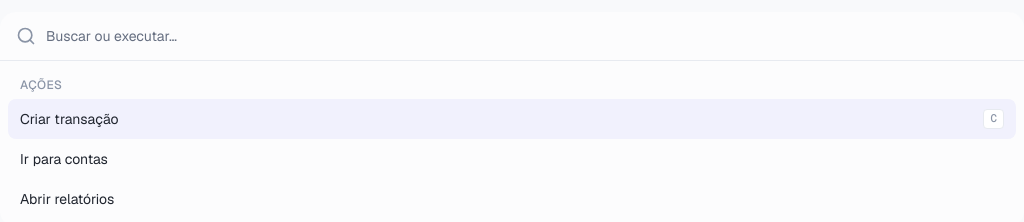
Test: CommandMenu › shows the empty state when nothing matches
The width and height of the screenshot is (1024, 222).
Type "zzzzz" into the dropdown with placeholder "Buscar ou executar…" at (527, 36), box left=46, top=12, right=1008, bottom=60
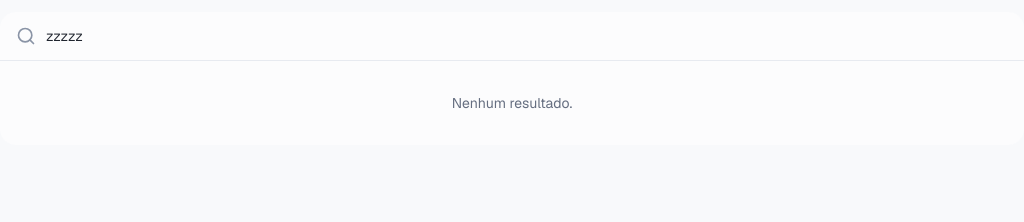
Check: the text "Nenhum resultado." is shown, box left=452, top=94, right=572, bottom=112
Check: the option is gone
